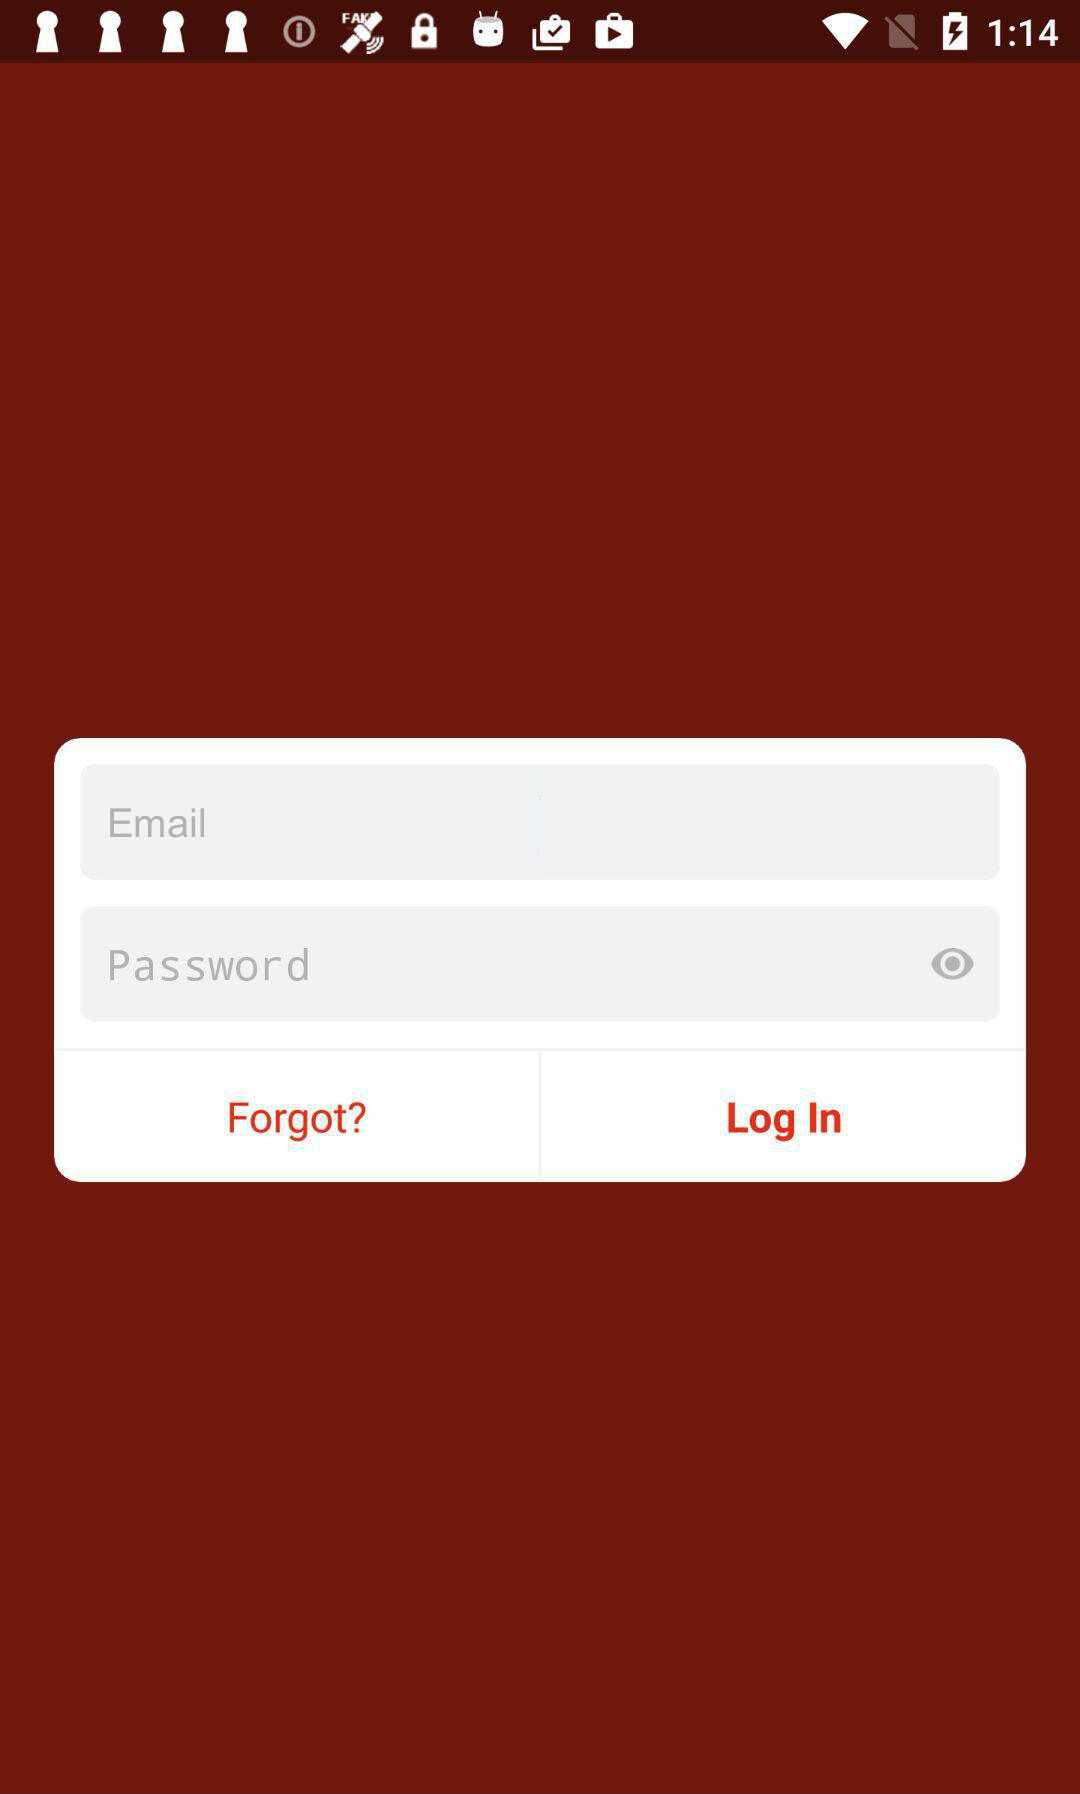EditText: (79, 764, 1001, 882), (79, 906, 1001, 1023)
Icon: (931, 948, 975, 982)
Modal: (54, 738, 1027, 1183)
Text: (111, 948, 309, 982), (110, 809, 205, 839)
TextButton: (55, 1049, 541, 1181), (541, 1049, 1026, 1181)
UpperTaskBar: (1, 1, 1080, 64)
